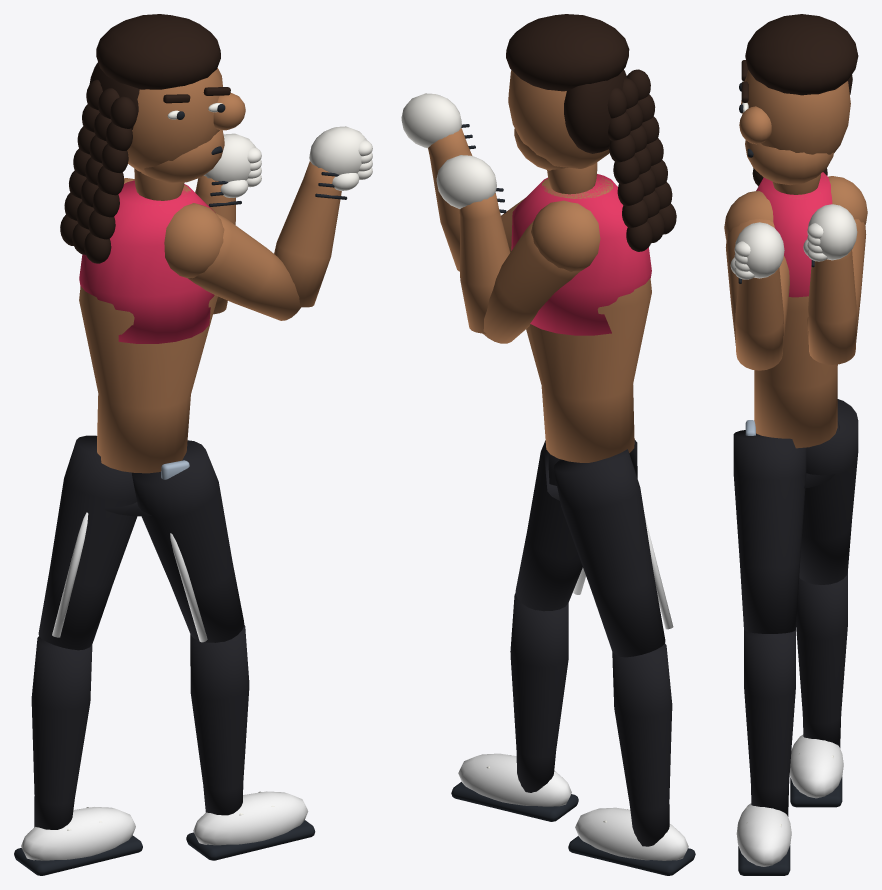
File: yasmin.glb
3 views of the same model, side by side, from view 1: azimuth 30°, elevation 25°; view 2: azimuth 150°, elevation 25°; view 3: azimuth 270°, elevation 25° (orthographic). The views are drawn at different scales.
Visible parts, largest first — view 1: Fitted torso.001, Trouser thigh.002, Trouser thigh.003, Athletic top, Lower leg.003, Lower leg.002, Hair crown.001, Upper arm.002, Head.001, Forearm.002, Boot.002, Boot.003 (+13 smaller); view 2: Fitted torso.001, Trouser thigh.003, Athletic top, Lower leg.003, Lower leg.002, Hair crown.001, Trouser thigh.002, Upper arm.003, Forearm.003, Head.001, Rounded shoulder.003, Boot.002 (+14 smaller); view 3: Trouser thigh.002, Lower leg.002, Fitted torso.001, Trouser thigh.003, Lower leg.003, Hair crown.001, Head.001, Forearm.003, Forearm.002, Athletic top, Boot.002, Boot.003 (+12 smaller).
Part boxes in pixels (x1,y1,x2,y2): Fitted torso.001: (79, 182, 217, 473); Trouser thigh.002: (132, 440, 244, 642); Trouser thigh.003: (38, 435, 137, 650); Athletic top: (79, 180, 215, 343); Lower leg.003: (31, 636, 92, 829); Lower leg.002: (190, 625, 249, 815); Hair crown.001: (96, 14, 220, 89); Upper arm.002: (188, 213, 301, 320); Head.001: (127, 68, 222, 172); Forearm.002: (274, 161, 341, 307); Boot.002: (193, 791, 308, 845); Boot.003: (21, 807, 135, 860); Fitted torso.001: (526, 176, 651, 462); Trouser thigh.003: (554, 449, 665, 657); Athletic top: (511, 174, 651, 335); Lower leg.003: (612, 643, 672, 846); Lower leg.002: (510, 594, 568, 792); Hair crown.001: (506, 14, 629, 91); Trouser thigh.002: (515, 440, 582, 611); Upper arm.003: (483, 221, 579, 343); Forearm.003: (459, 193, 510, 333); Head.001: (508, 70, 609, 168); Rounded shoulder.003: (531, 200, 600, 271); Boot.002: (458, 753, 571, 806); Trouser thigh.002: (733, 430, 806, 633); Lower leg.002: (744, 630, 795, 816); Fitted torso.001: (754, 173, 837, 448); Trouser thigh.003: (799, 399, 858, 584); Lower leg.003: (796, 571, 847, 747); Hair crown.001: (745, 14, 858, 95); Head.001: (741, 70, 850, 154); Forearm.003: (808, 250, 856, 364); Forearm.002: (735, 268, 783, 370); Athletic top: (756, 172, 832, 297); Boot.002: (736, 803, 791, 866); Boot.003: (789, 734, 843, 798).
Size of the model in its own units: 60.93 by 152 by 24.84.
